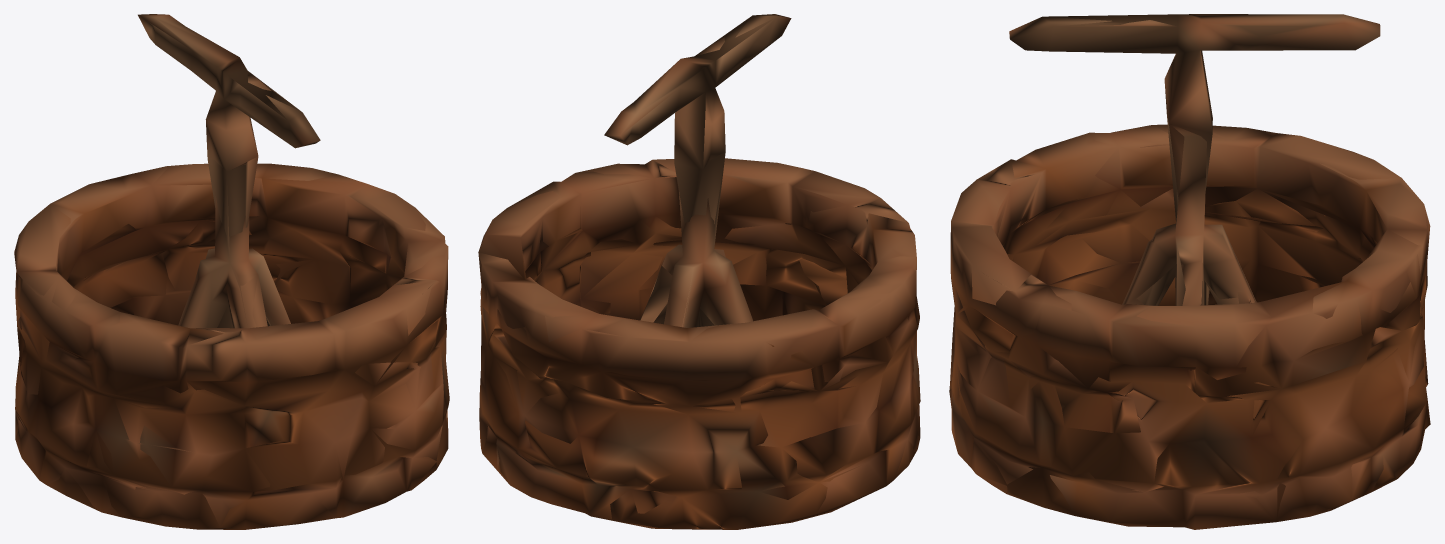
File: gen3d-clay-well-lod0.glb
The picture shows the model from 3 angles, left to right: view 1: azimuth 30°, elevation 25°; view 2: azimuth 150°, elevation 25°; view 3: azimuth 270°, elevation 25°; orthographic projection. The views are drawn at different scales.
Parts seen in each view (by area): view 1: part_0; view 2: part_0; view 3: part_0.
Boxes of the visible parts, box(x1,y1,x2,y2) form: part_0: box(14, 14, 449, 529); part_0: box(478, 14, 920, 529); part_0: box(949, 14, 1430, 529).
Bounding box in the file's own units: 1.04 × 0.9966 × 1.05.
